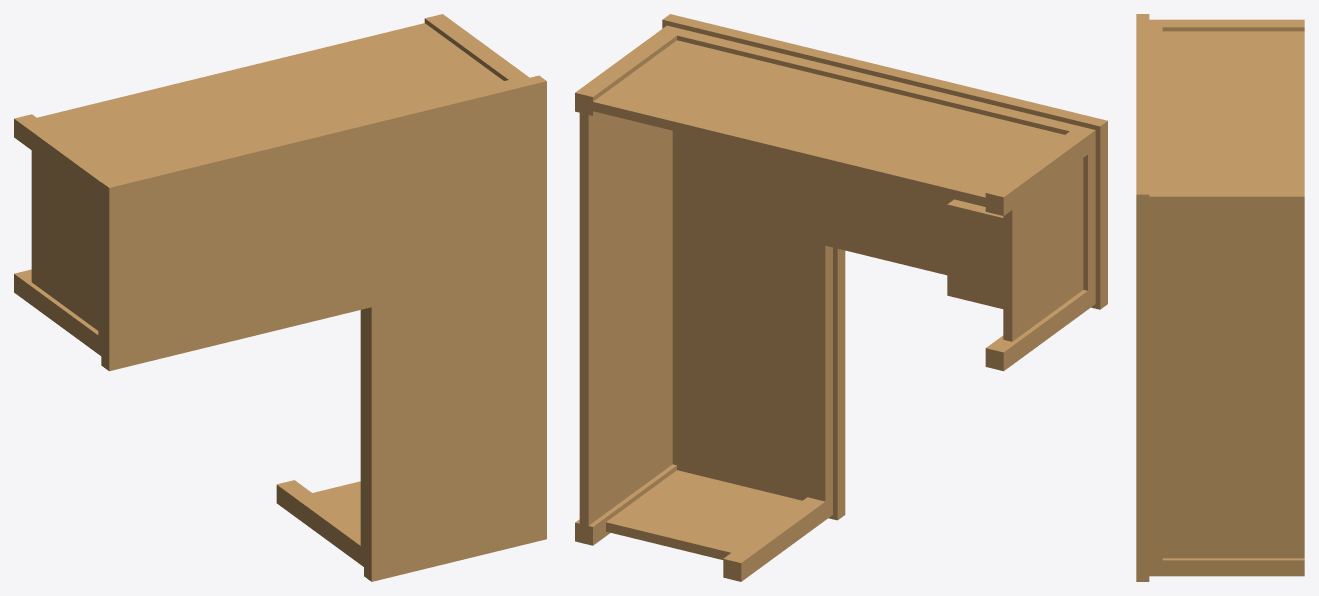
Rendered from desk-corner.obj.
The picture shows the model from 3 angles, left to right: view 1: azimuth 30°, elevation 25°; view 2: azimuth 150°, elevation 25°; view 3: azimuth 270°, elevation 25°; orthographic projection. The views are drawn at different scales.
Visible parts, largest first — view 1: desk-corner; view 2: desk-corner; view 3: desk-corner.
Boxes of the visible parts, <box> form: desk-corner: <box>14,14,546,581</box>; desk-corner: <box>575,14,1107,581</box>; desk-corner: <box>1136,14,1304,581</box>.
Bounding box in the file's own units: 76.05 × 76.05 × 30.
